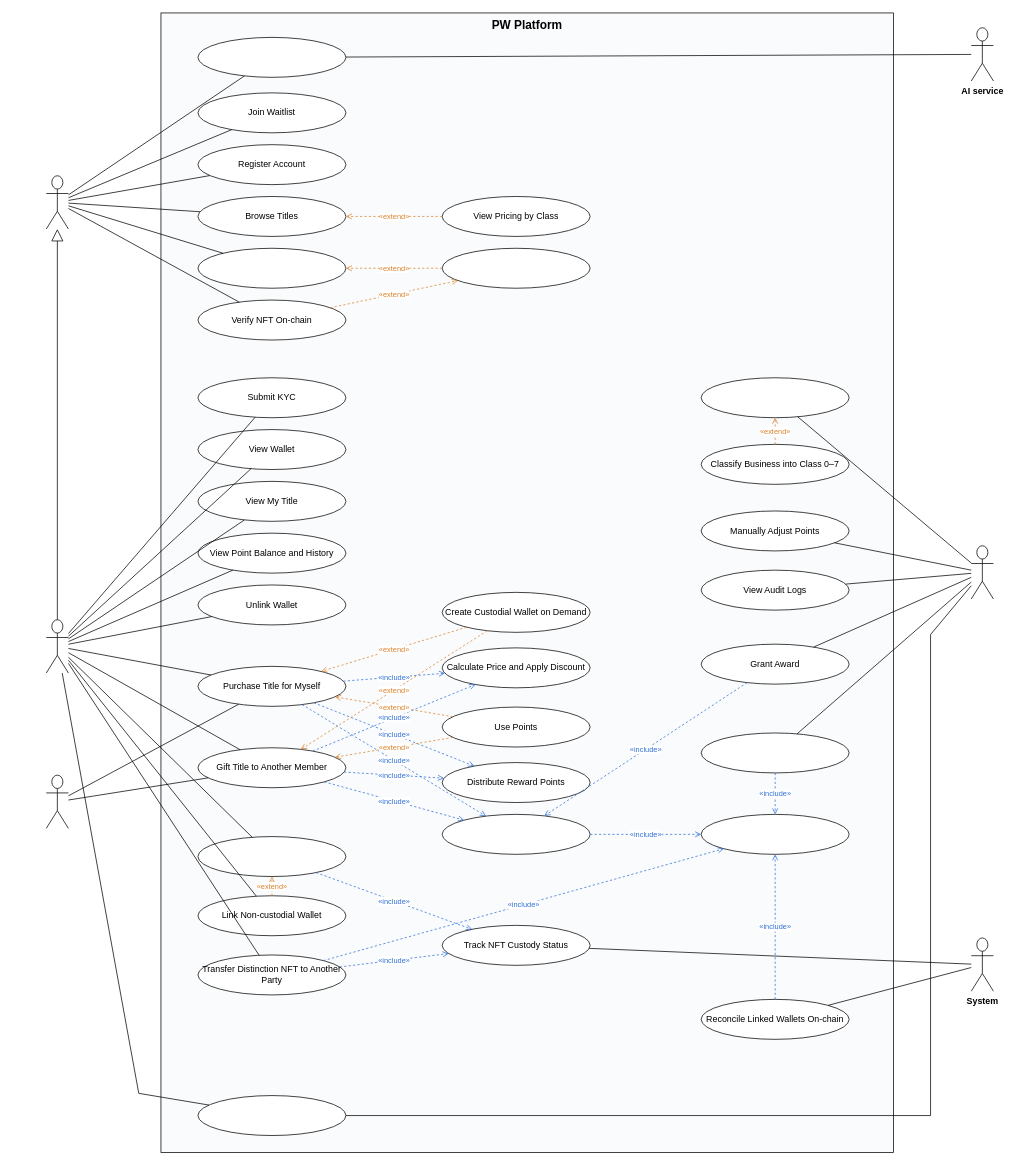
Image size: 1016x1166. Some labels were removed from this diagram. Each missing label, with the centre of its shape:
"Admin" belongs at (982,572).
"Ask AI Assistant" belongs at (271,57).
"Browse Public Directory" belongs at (271,268).
"Calculate Ranking" belongs at (774,834).
"Company / Individual" belongs at (57,646).
"Log In" belongs at (271,1115).
"Mint NFT" belongs at (515,834).
"Payment Gateway" belongs at (57,801).
"Review KYC (Approve / Reject)" belongs at (774,397).
"Revoke NFT" belongs at (774,752).
"Transfer NFT to Own Non-custodial Wallet" belongs at (271,856).
"View Profile and Recognitions" belongs at (515,268).
"Visitor" belongs at (57,202).
